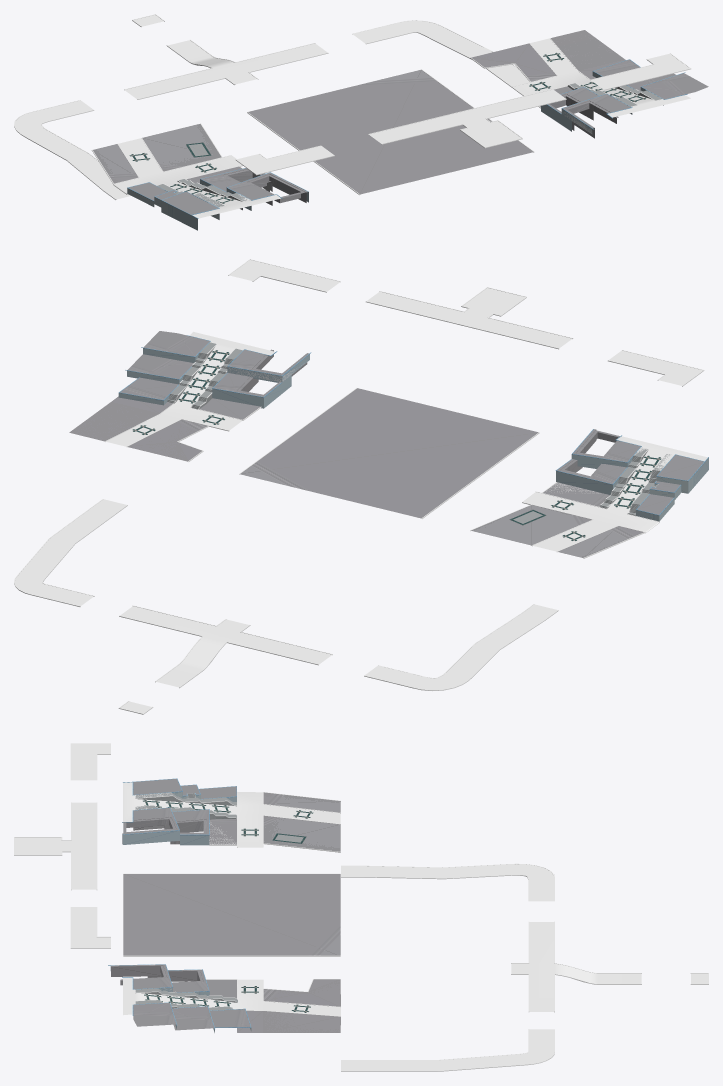
File: objects_un_c02tile01.gltf
3 renders of one model, top to bottom at view 1: azimuth 30°, elevation 25°; view 2: azimuth 150°, elevation 25°; view 3: azimuth 270°, elevation 25°, orthographic. The views are drawn at different scales.
Visible parts, largest first — view 1: um_objects_un_c02tile01_model_lod0Shape:objects_un_c02tile02 (×3), um_objects_un_c02tile01_model_lod0Shape:objects_un_c02tile01 (×2), um_objects_un_c02tile01_model_lod2Shape:objects_un_c02tile02, um_objects_un_c02tile01_model_lod0Shape:objects_un_c02watere, um_objects_un_c02tile01_model_lod0Shape:objects_un_c02space0, um_objects_un_c02tile01_model_lod0Shape:objects_un_c02wall01, um_objects_un_c02tile01_model_lod2Shape:objects_un_c02tile01, um_objects_un_c02tile01_model_lod1Shape:objects_un_c02tile01; view 2: um_objects_un_c02tile01_model_lod0Shape:objects_un_c02tile02 (×3), um_objects_un_c02tile01_model_lod0Shape:objects_un_c02tile01 (×2), um_objects_un_c02tile01_model_lod0Shape:objects_un_c02watere, um_objects_un_c02tile01_model_lod2Shape:objects_un_c02tile02, um_objects_un_c02tile01_model_lod0Shape:objects_un_c02space0, um_objects_un_c02tile01_model_lod2Shape:objects_un_c02tile01, um_objects_un_c02tile01_model_lod0Shape:objects_un_c02wall01; view 3: um_objects_un_c02tile01_model_lod0Shape:objects_un_c02tile02 (×3), um_objects_un_c02tile01_model_lod0Shape:objects_un_c02tile01 (×2), um_objects_un_c02tile01_model_lod2Shape:objects_un_c02tile02, um_objects_un_c02tile01_model_lod0Shape:objects_un_c02space0, um_objects_un_c02tile01_model_lod0Shape:objects_un_c02watere, um_objects_un_c02tile01_model_lod2Shape:objects_un_c02tile01, um_objects_un_c02tile01_model_lod0Shape:objects_un_c02wall01.
Boxes of the visible parts, x1,y1,x2,y2 form: um_objects_un_c02tile01_model_lod0Shape:objects_un_c02tile02 (×3): (14, 14, 708, 214); um_objects_un_c02tile01_model_lod0Shape:objects_un_c02tile01 (×2): (15, 20, 690, 218); um_objects_un_c02tile01_model_lod2Shape:objects_un_c02tile02: (93, 31, 623, 183); um_objects_un_c02tile01_model_lod0Shape:objects_un_c02watere: (127, 72, 663, 230); um_objects_un_c02tile01_model_lod0Shape:objects_un_c02space0: (157, 76, 661, 210); um_objects_un_c02tile01_model_lod0Shape:objects_un_c02wall01: (127, 59, 687, 218); um_objects_un_c02tile01_model_lod2Shape:objects_un_c02tile01: (68, 64, 686, 176); um_objects_un_c02tile01_model_lod1Shape:objects_un_c02tile01: (572, 71, 686, 103); um_objects_un_c02tile01_model_lod0Shape:objects_un_c02tile02 (×3): (14, 259, 704, 714); um_objects_un_c02tile01_model_lod0Shape:objects_un_c02tile01 (×2): (15, 260, 707, 689); um_objects_un_c02tile01_model_lod0Shape:objects_un_c02watere: (118, 348, 708, 521); um_objects_un_c02tile01_model_lod2Shape:objects_un_c02tile02: (71, 403, 643, 557); um_objects_un_c02tile01_model_lod0Shape:objects_un_c02space0: (167, 342, 669, 523); um_objects_un_c02tile01_model_lod2Shape:objects_un_c02tile01: (49, 333, 519, 648); um_objects_un_c02tile01_model_lod0Shape:objects_un_c02wall01: (119, 335, 708, 515); um_objects_un_c02tile01_model_lod0Shape:objects_un_c02tile02 (×3): (14, 743, 708, 1071); um_objects_un_c02tile01_model_lod0Shape:objects_un_c02tile01 (×2): (71, 743, 554, 1070); um_objects_un_c02tile01_model_lod2Shape:objects_un_c02tile02: (263, 792, 340, 1032); um_objects_un_c02tile01_model_lod0Shape:objects_un_c02space0: (135, 792, 303, 1010); um_objects_un_c02tile01_model_lod0Shape:objects_un_c02watere: (110, 792, 251, 1032); um_objects_un_c02tile01_model_lod2Shape:objects_un_c02tile01: (123, 868, 445, 1070); um_objects_un_c02tile01_model_lod0Shape:objects_un_c02wall01: (108, 778, 251, 1028).
Size of the model in its own units: 202 by 50.23 by 237.
9 materials, 5 textured.
